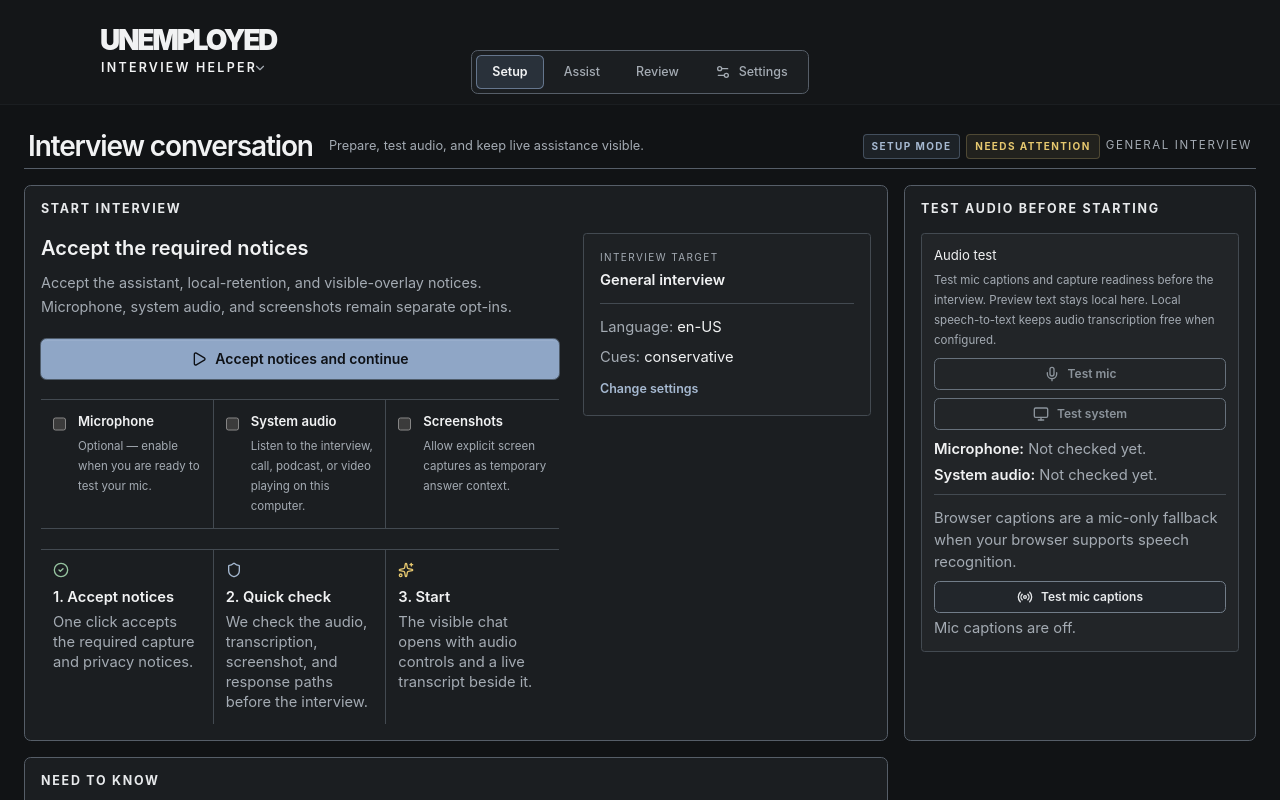
it: Interview Helper section navigation › renders a compact actionable empty state when Review has no sessions
Click the button "Review" at (657, 72), box [620,55,695,89]
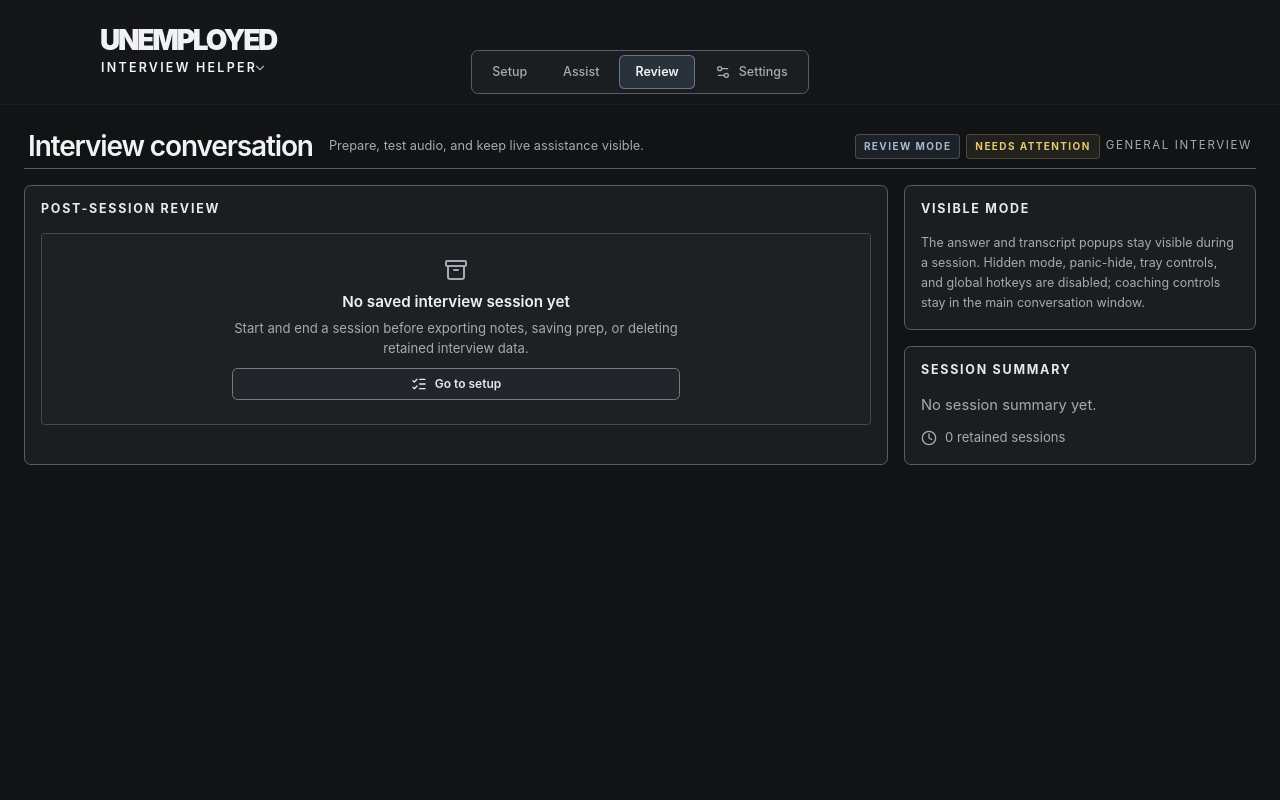
Check: the heading "No saved interview session yet" is shown, box [342,292,570,311]
Click the button "Go to setup" at (456, 384), box [232,368,680,400]
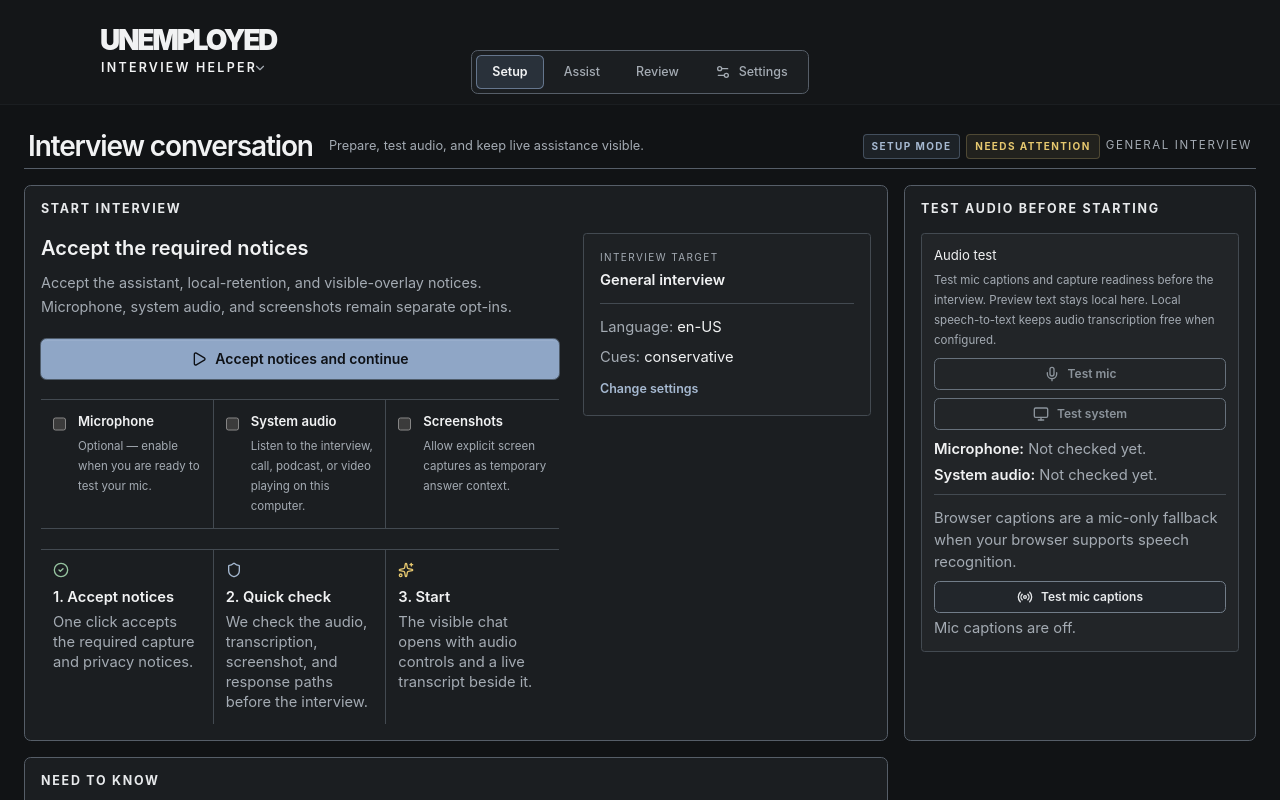
Check: the heading "Start interview" is shown, box [41,202,181,217]
